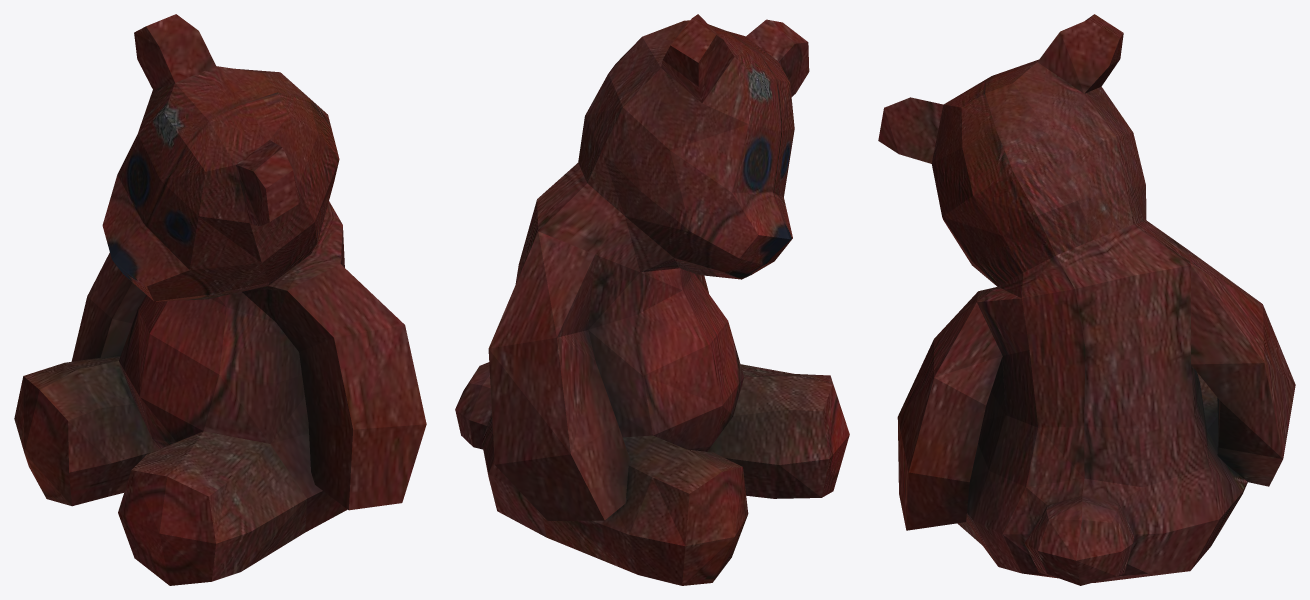
Rendered from AJL185FM8HOFMHLLZP5SAH5L8.fbx.
The picture shows the model from 3 angles, left to right: view 1: azimuth 30°, elevation 25°; view 2: azimuth 150°, elevation 25°; view 3: azimuth 270°, elevation 25°; orthographic projection.
Visible parts, largest first — view 1: Object_Liz_Tower_ToyBear_Red.jpg; view 2: Object_Liz_Tower_ToyBear_Red.jpg; view 3: Object_Liz_Tower_ToyBear_Red.jpg.
Boxes of the visible parts, <box> form: Object_Liz_Tower_ToyBear_Red.jpg: <box>14,14,426,585</box>; Object_Liz_Tower_ToyBear_Red.jpg: <box>455,14,849,585</box>; Object_Liz_Tower_ToyBear_Red.jpg: <box>878,14,1295,585</box>.
Size of the model in its own units: 1.71 by 2.5 by 1.88.
Materials: 1 (1 with a texture image).
